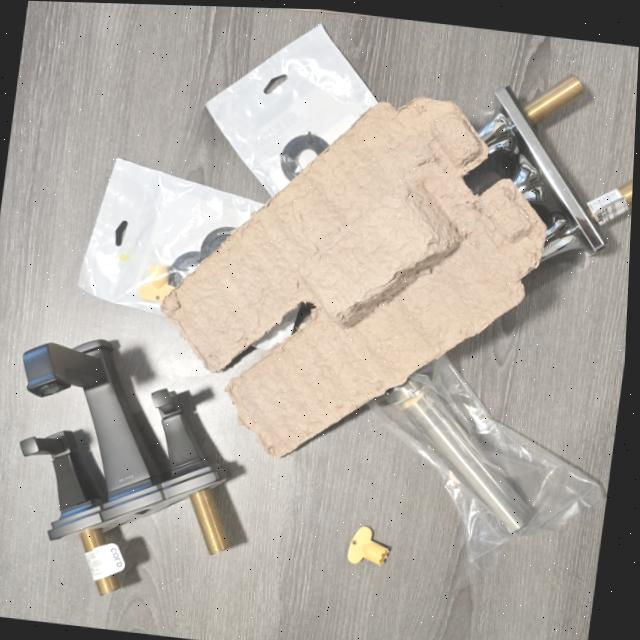10o: (477, 74, 633, 259)
11o: (367, 354, 600, 566)
12o: (78, 157, 260, 314)
13o: (205, 23, 376, 195)
14: (346, 525, 388, 563)
9: (19, 338, 226, 593)
